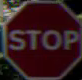Stop: (2, 4, 77, 72)
